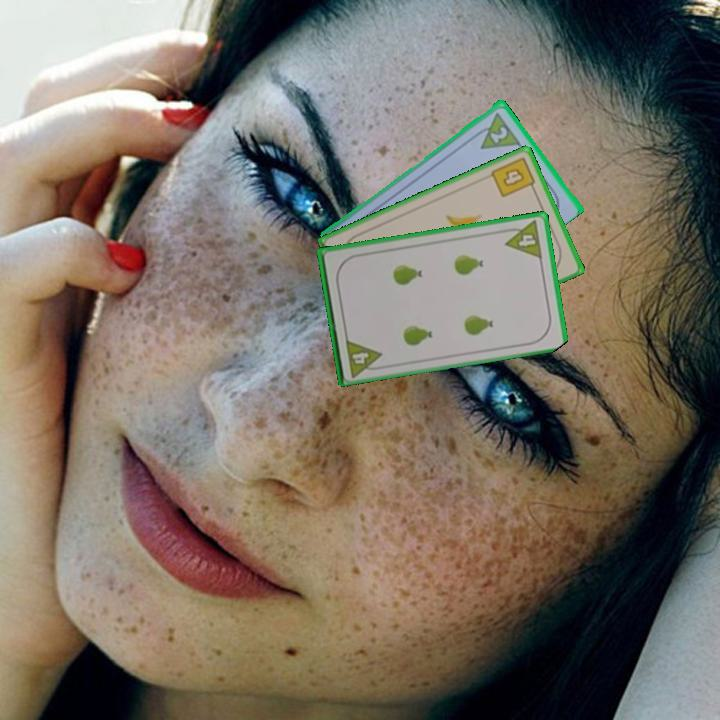2p: (487, 122, 511, 146)
4b: (487, 153, 539, 200)
4p: (500, 217, 545, 261), (342, 335, 386, 379)
